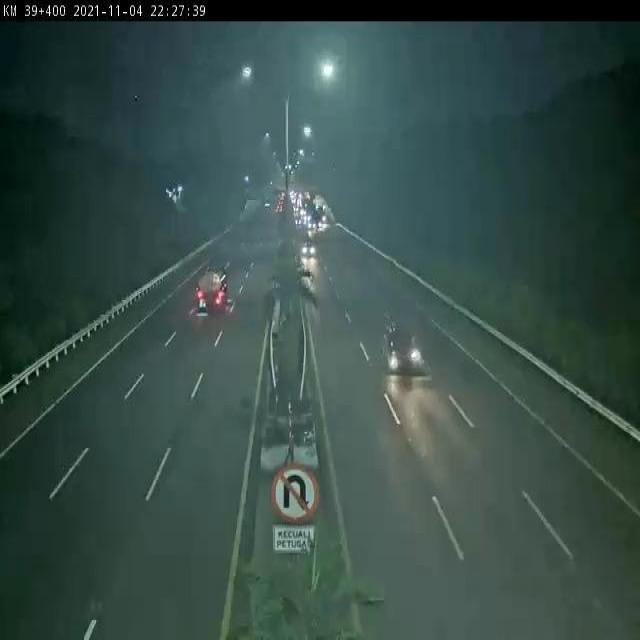car: (382, 321, 421, 375)
truck-l-: (197, 269, 227, 312)
